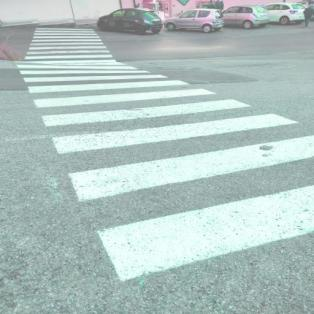Paso de Cebra: (30, 84, 261, 132)
